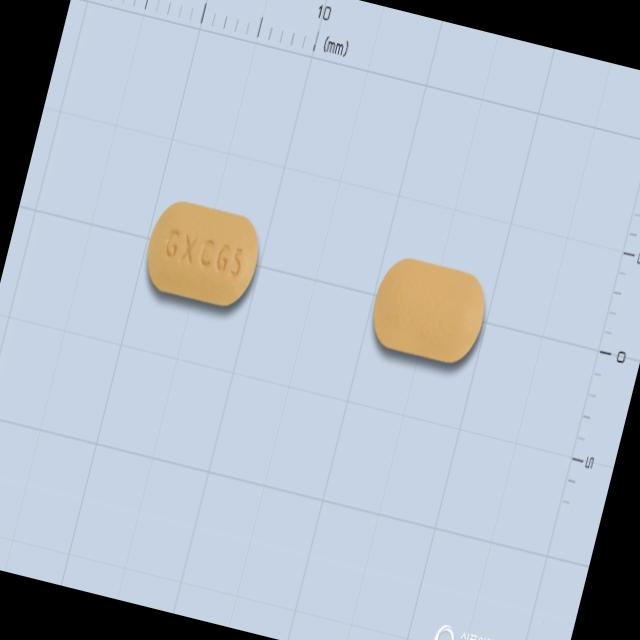Zeffix Tab: (136, 194, 268, 313)
